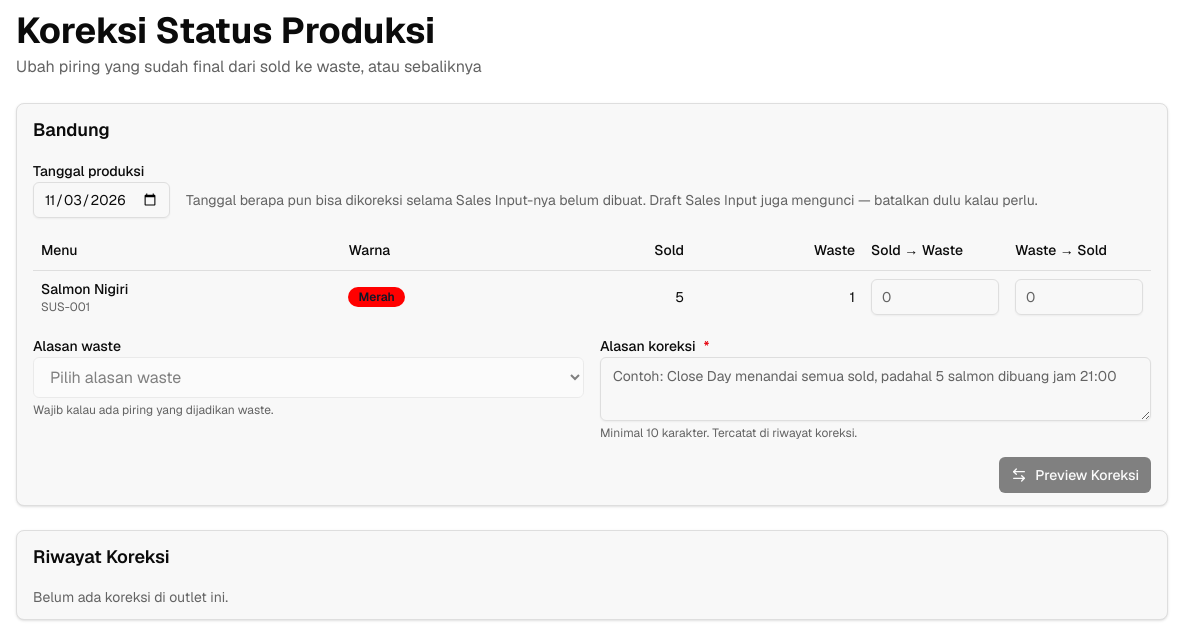
Test: ProductionCorrectionAdmin › jumlah dipotong ke piring yang tersedia
Type "9" into the number field named "Salmon Nigiri sold ke waste" at (935, 296), box [871,278,999,314]
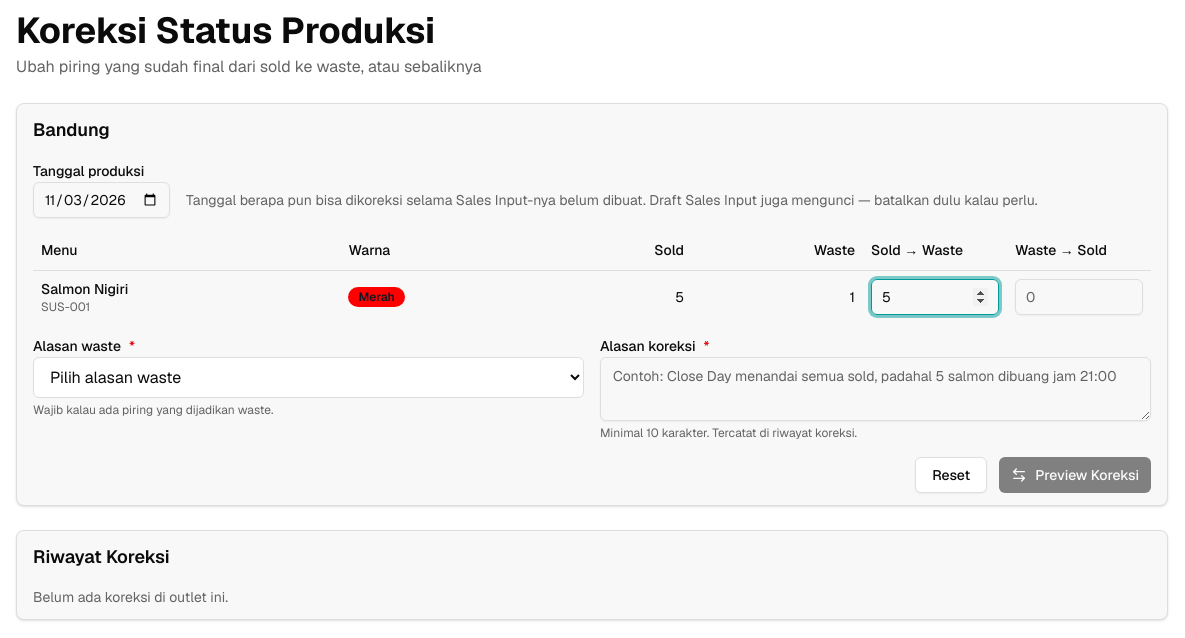
Result: the number field named "Salmon Nigiri sold ke waste" holds "5" at [871,278,999,314]
